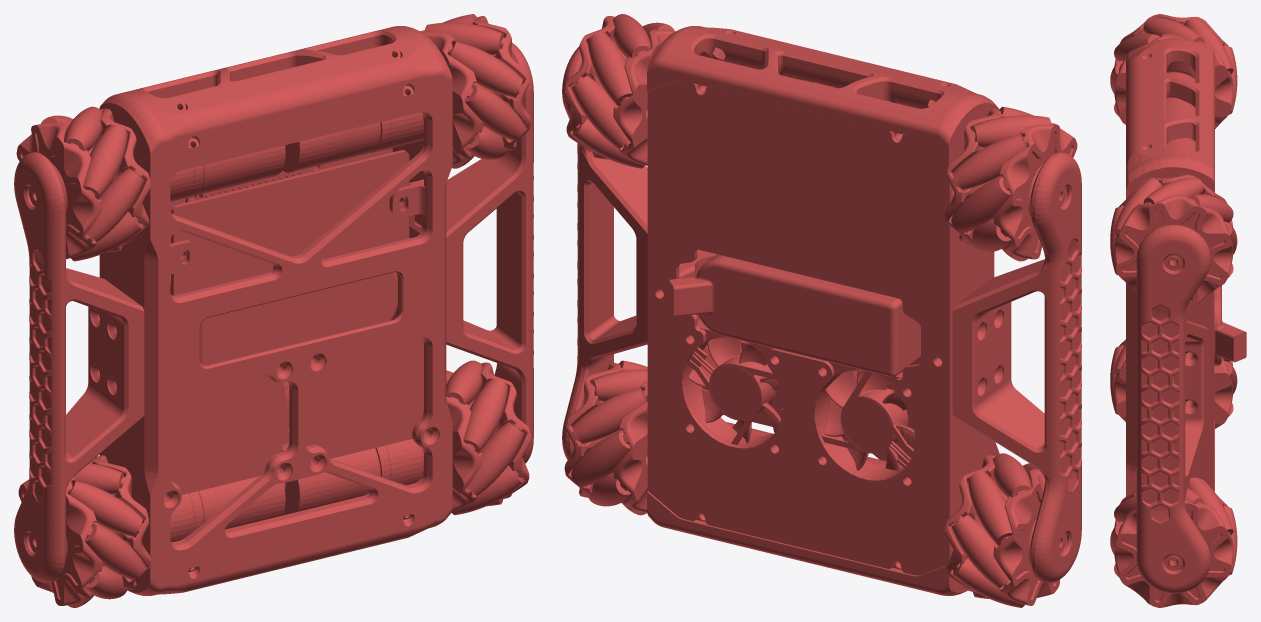
File: micro_mecanum.glb
3 views of the same model, side by side, from view 1: azimuth 30°, elevation 25°; view 2: azimuth 150°, elevation 25°; view 3: azimuth 270°, elevation 25° (orthographic). The views are drawn at different scales.
Bounding box in the file's own units: 184 × 177 × 51.55.
